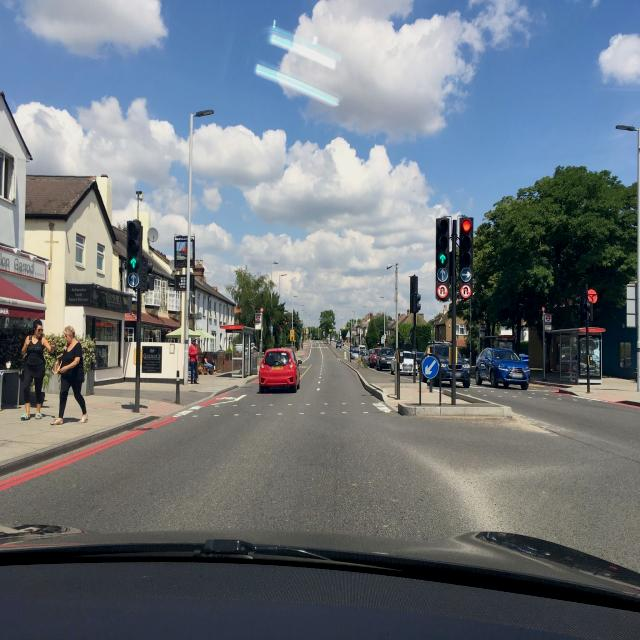car: (475, 347, 531, 391), (258, 346, 300, 394), (423, 356, 470, 389), (376, 348, 396, 372), (396, 351, 416, 375), (368, 347, 382, 368), (336, 341, 342, 349)
